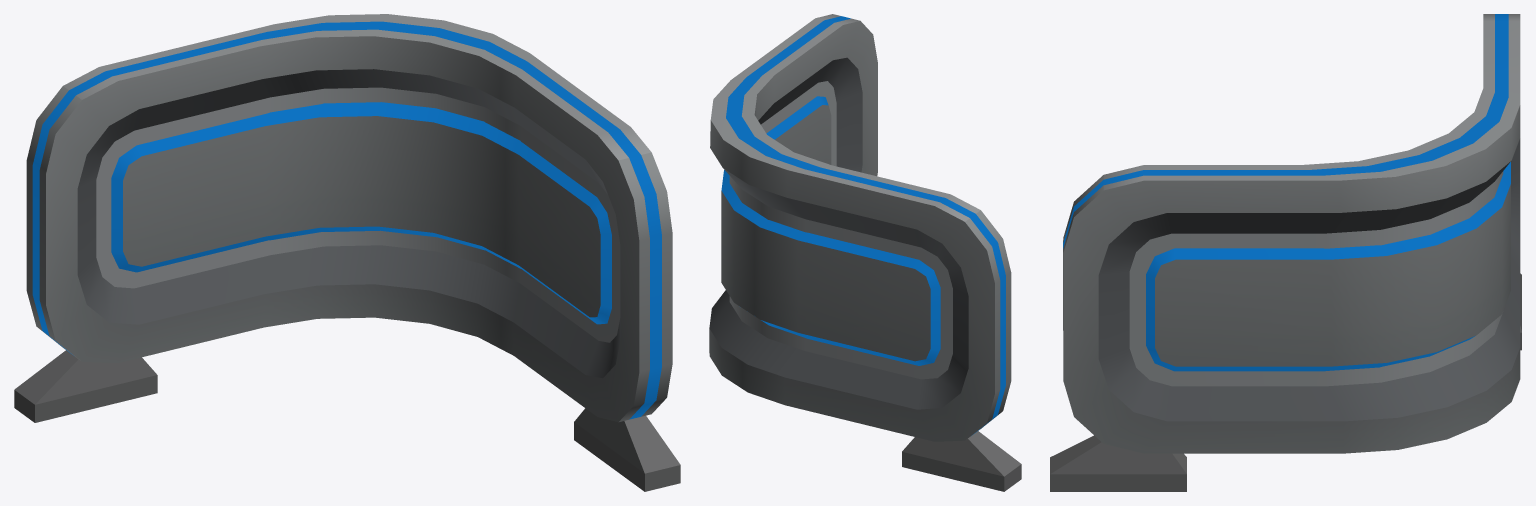
File: Fence_type_C_009.glb
3 views of the same model, side by side, from view 1: azimuth 30°, elevation 25°; view 2: azimuth 150°, elevation 25°; view 3: azimuth 270°, elevation 25° (orthographic). The views are drawn at different scales.
Visible parts, largest first — view 1: Fence_type_C_009; view 2: Fence_type_C_009; view 3: Fence_type_C_009.
Boxes of the visible parts, box(x1,y1,x2,y2) form: Fence_type_C_009: box(14, 14, 680, 491); Fence_type_C_009: box(709, 14, 1021, 491); Fence_type_C_009: box(1050, 14, 1521, 491).
Size of the model in its own units: 1.95 by 1.41 by 1.94.
2 materials, 2 textured.
